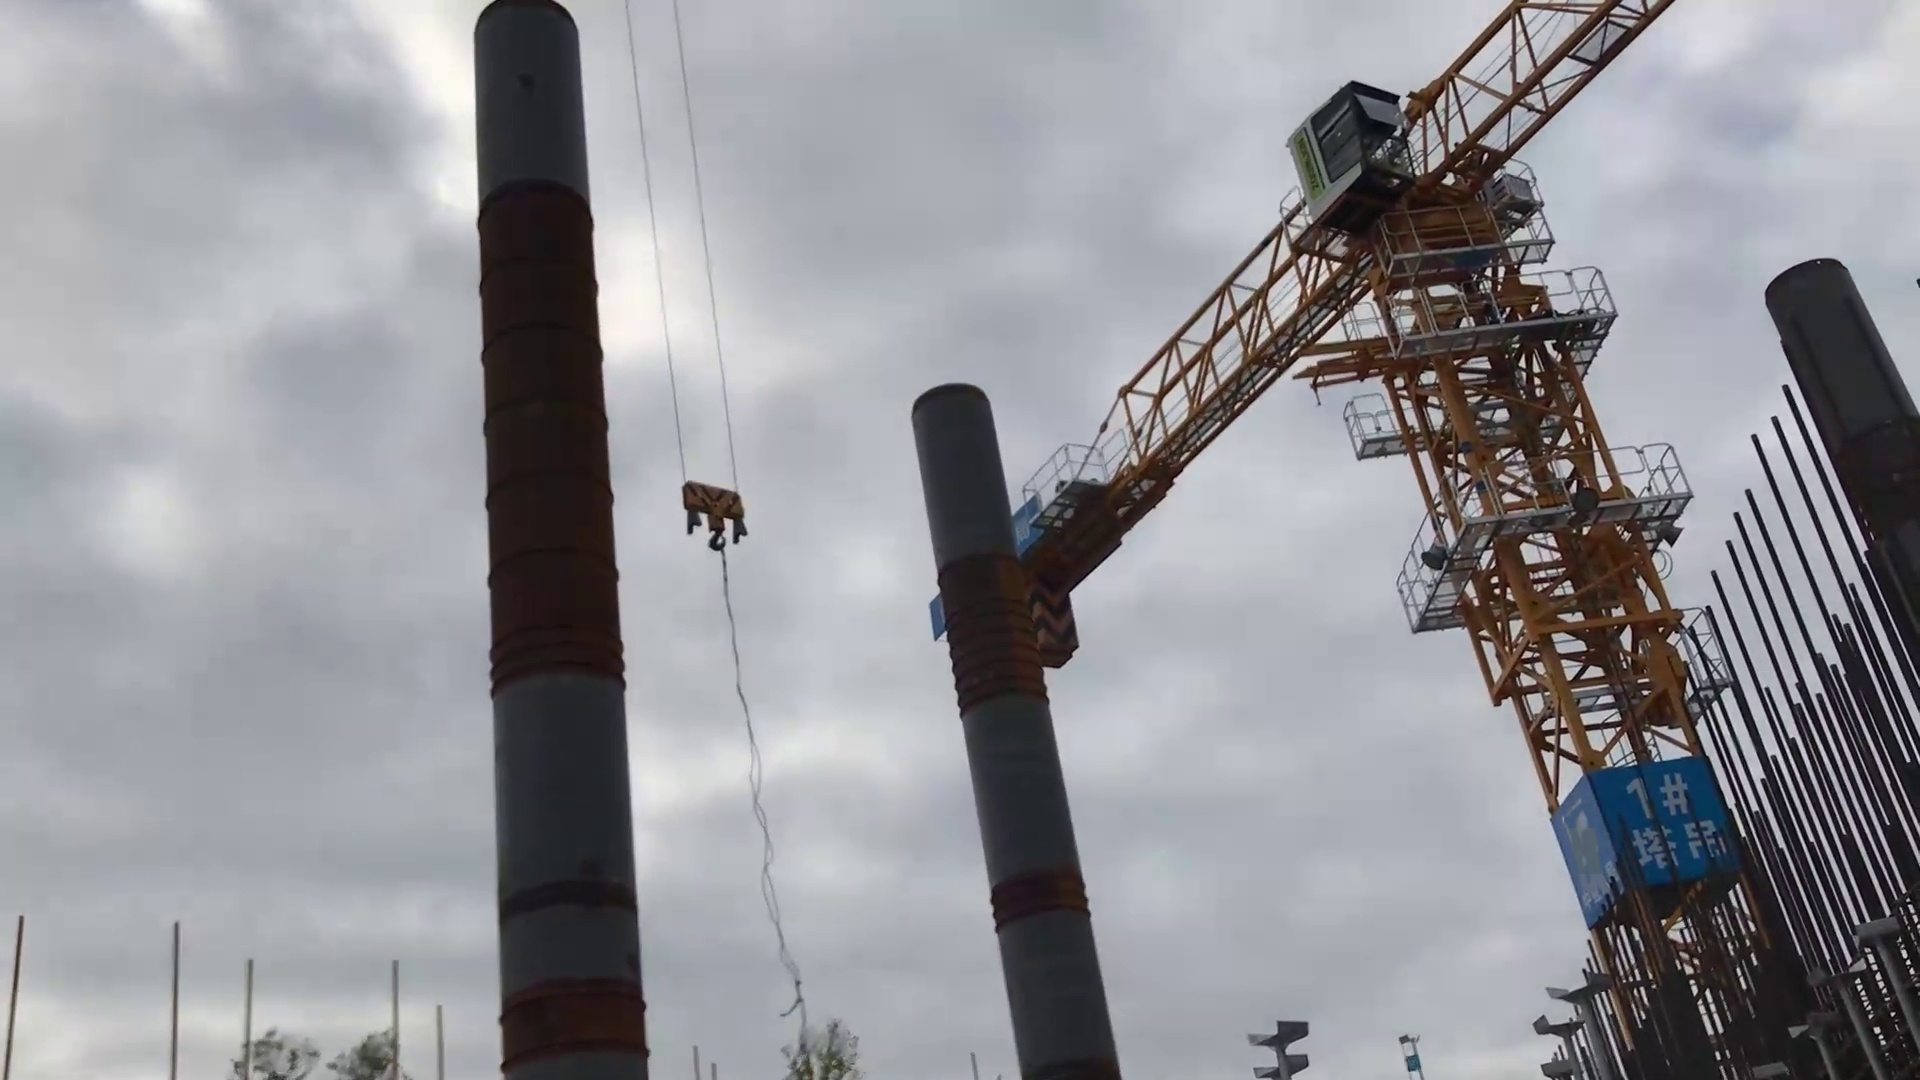hook: (674, 473, 778, 560)
